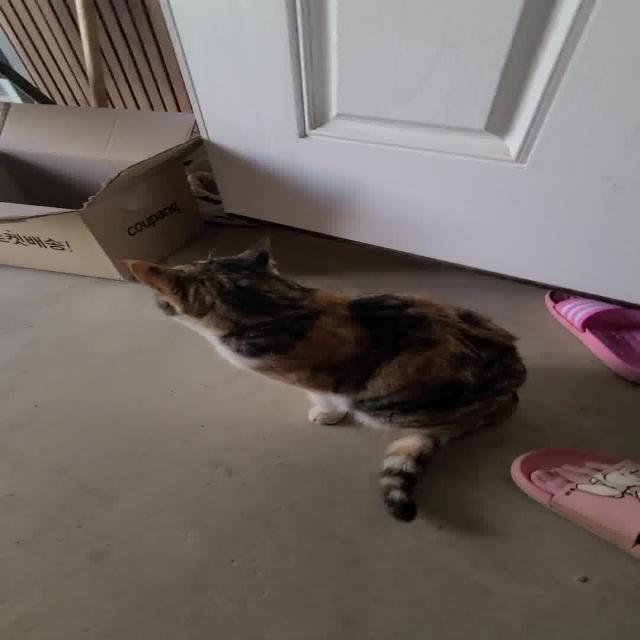cat: (104, 223, 529, 525)
